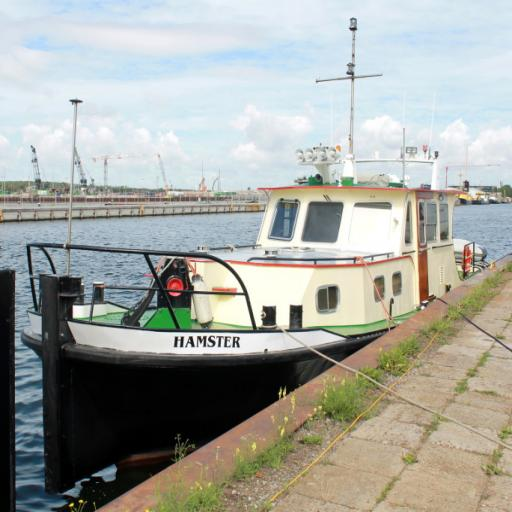tugboat: (19, 17, 491, 501)
